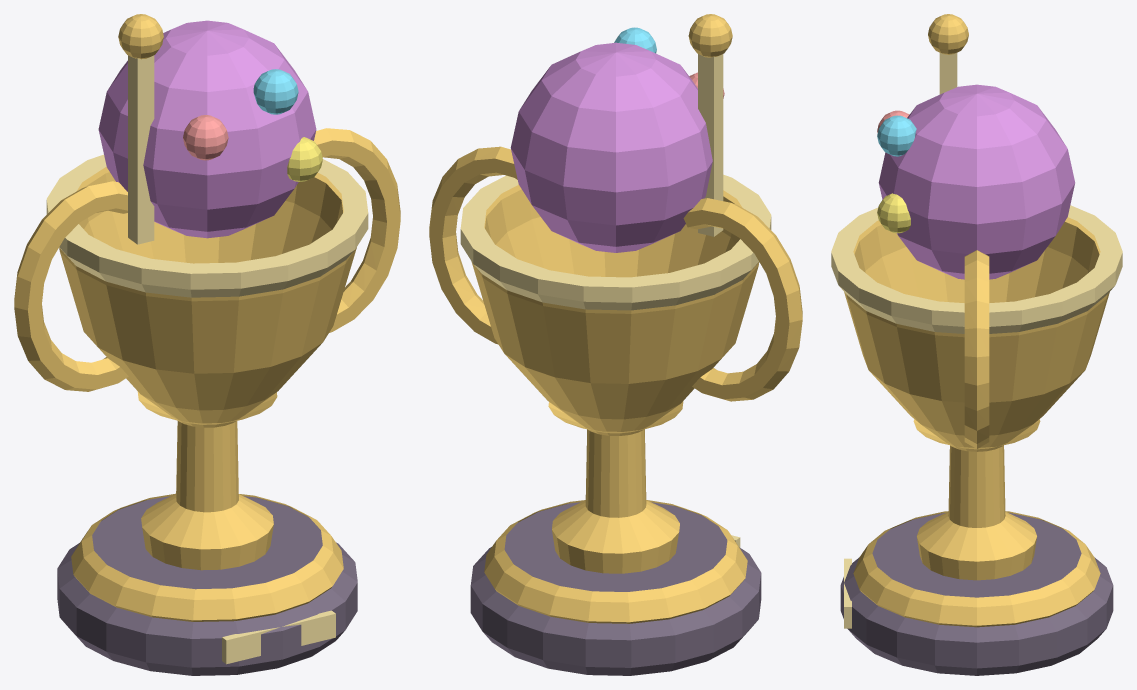
The model's file is creativity.glb.
3 renders of one model, left to right at view 1: azimuth 30°, elevation 25°; view 2: azimuth 150°, elevation 25°; view 3: azimuth 270°, elevation 25°, orthographic. The views are drawn at different scales.
Bounding box in the file's own units: 1.27 × 1.99 × 0.92.
